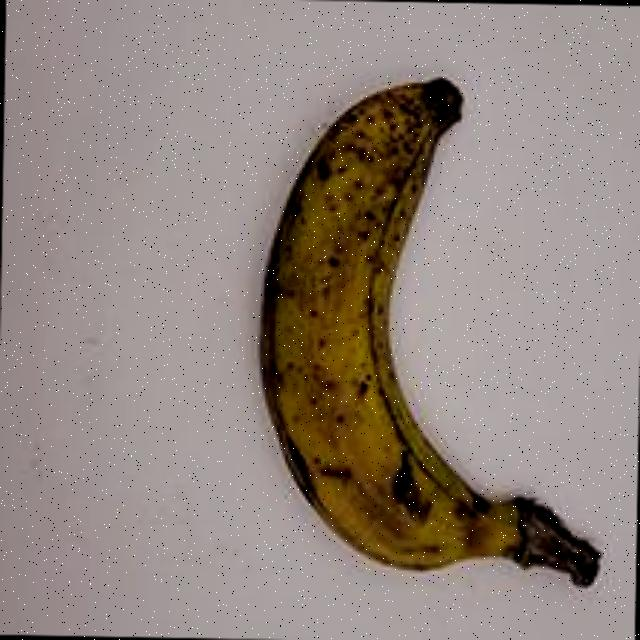Overripe: (208, 45, 624, 604)
